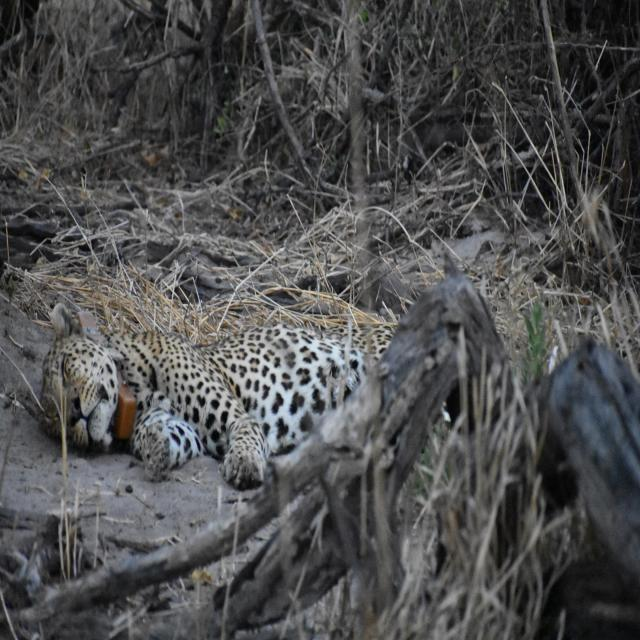Leopard: (40, 303, 403, 488)
